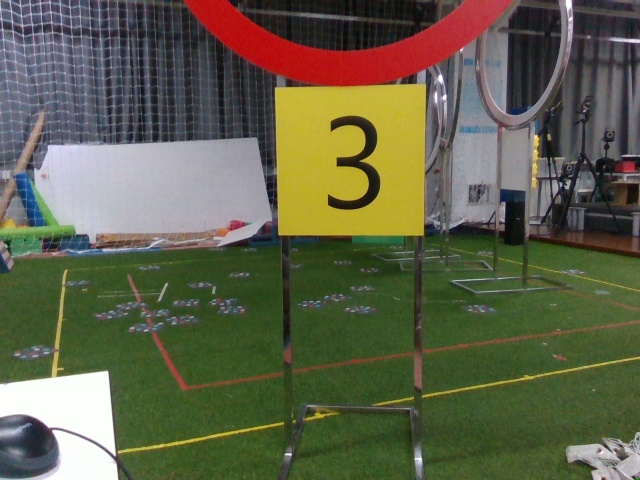target: (283, 91, 412, 225)
